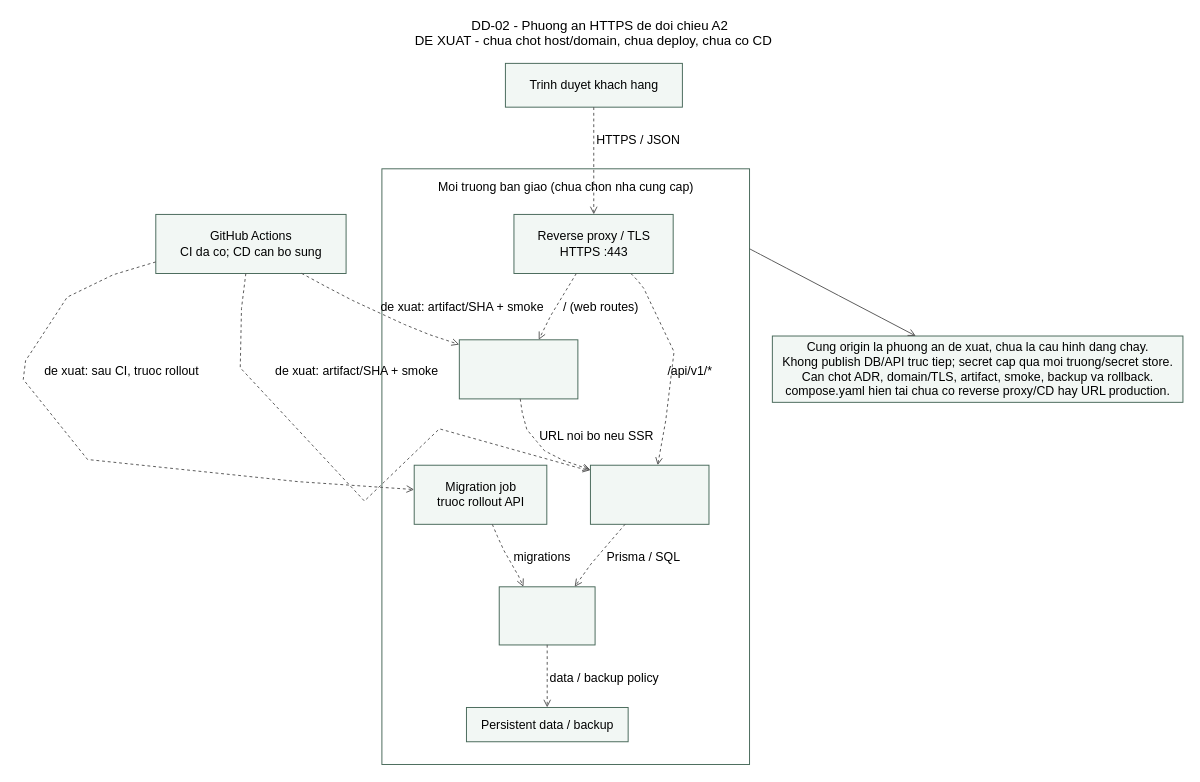
The diagram is 1200 pixels wide and 782 high, and some of its shapes have lost their labels. Here are the shapes that lost their labels. From the top down, the box of each, then its label:
(458, 339, 578, 399): Next.js web internal :3000
(589, 464, 709, 524): NestJS API internal :3001
(498, 586, 595, 645): PostgreSQL private :5432
